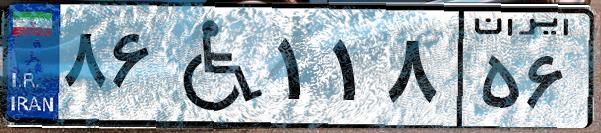1: (270, 28, 330, 110), (330, 28, 385, 110)
5: (475, 38, 525, 113)
6: (525, 38, 570, 115), (110, 28, 158, 98)
8: (385, 28, 445, 110), (57, 26, 110, 100)
ژ (معلولین و جانبازان): (158, 12, 270, 120)
